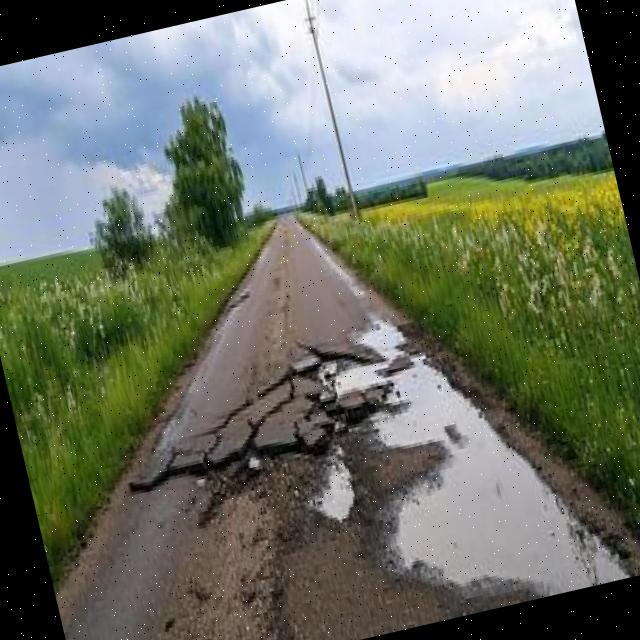road collapse: (42, 194, 598, 640)
